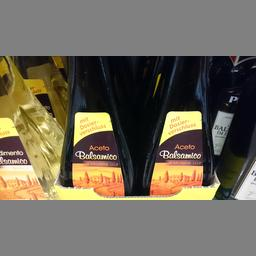vinegar: (54, 55, 132, 192), (140, 55, 212, 198), (0, 55, 50, 198)
